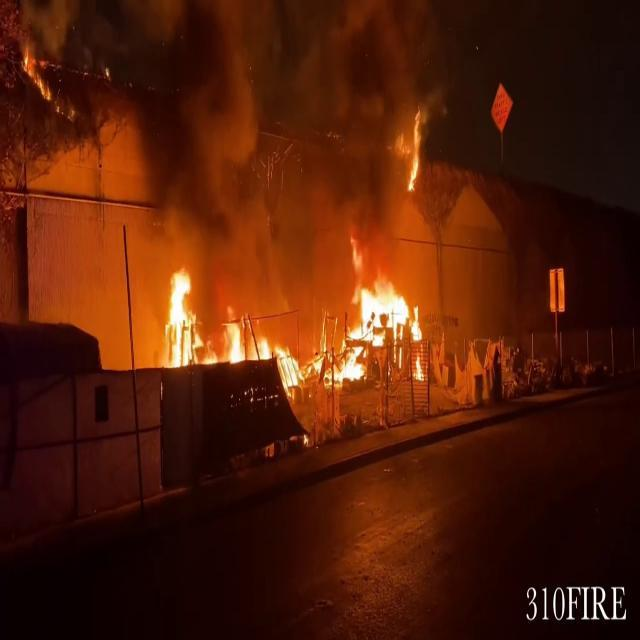Fire: (154, 264, 432, 404), (154, 264, 206, 368), (392, 104, 436, 198)
Smoke: (8, 0, 464, 278)
